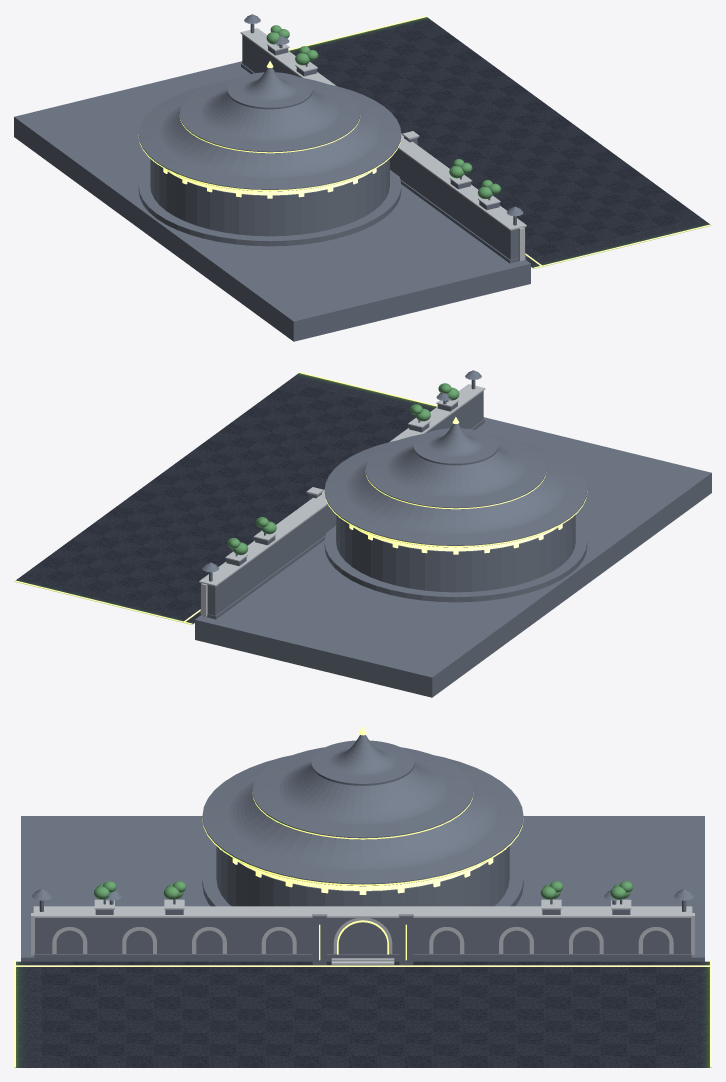
Rendered from arena_combined.glb.
3 views of the same model, one above another, from view 1: azimuth 30°, elevation 25°; view 2: azimuth 150°, elevation 25°; view 3: azimuth 270°, elevation 25° (orthographic). The views are drawn at different scales.
Parts seen in each view (by area): view 1: geometry_0, geometry_5, geometry_1, geometry_2, geometry_4, geometry_3; view 2: geometry_0, geometry_5, geometry_1, geometry_2, geometry_4, geometry_3; view 3: geometry_0, geometry_5, geometry_1, geometry_2, geometry_3, geometry_4.
Part boxes in pixels (x1,y1,x2,y2): geometry_0: (14,14,530,341); geometry_5: (289,17,711,268); geometry_1: (240,28,526,261); geometry_2: (138,16,711,268); geometry_4: (266,25,500,199); geometry_3: (153,161,386,198); geometry_0: (195,370,711,697); geometry_5: (14,373,436,624); geometry_1: (199,384,485,617); geometry_2: (14,372,587,624); geometry_4: (227,383,459,555); geometry_3: (339,517,572,554); geometry_0: (21,735,704,964); geometry_5: (14,961,711,1067); geometry_1: (31,899,694,964); geometry_2: (14,726,711,1067); geometry_3: (220,849,505,894); geometry_4: (94,881,632,899).
Bounding box in the file's own units: 84 × 29.1 × 100.
6 materials, 1 textured.
